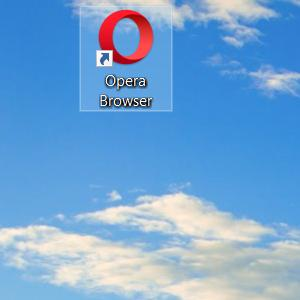opera: (96, 10, 153, 67)
